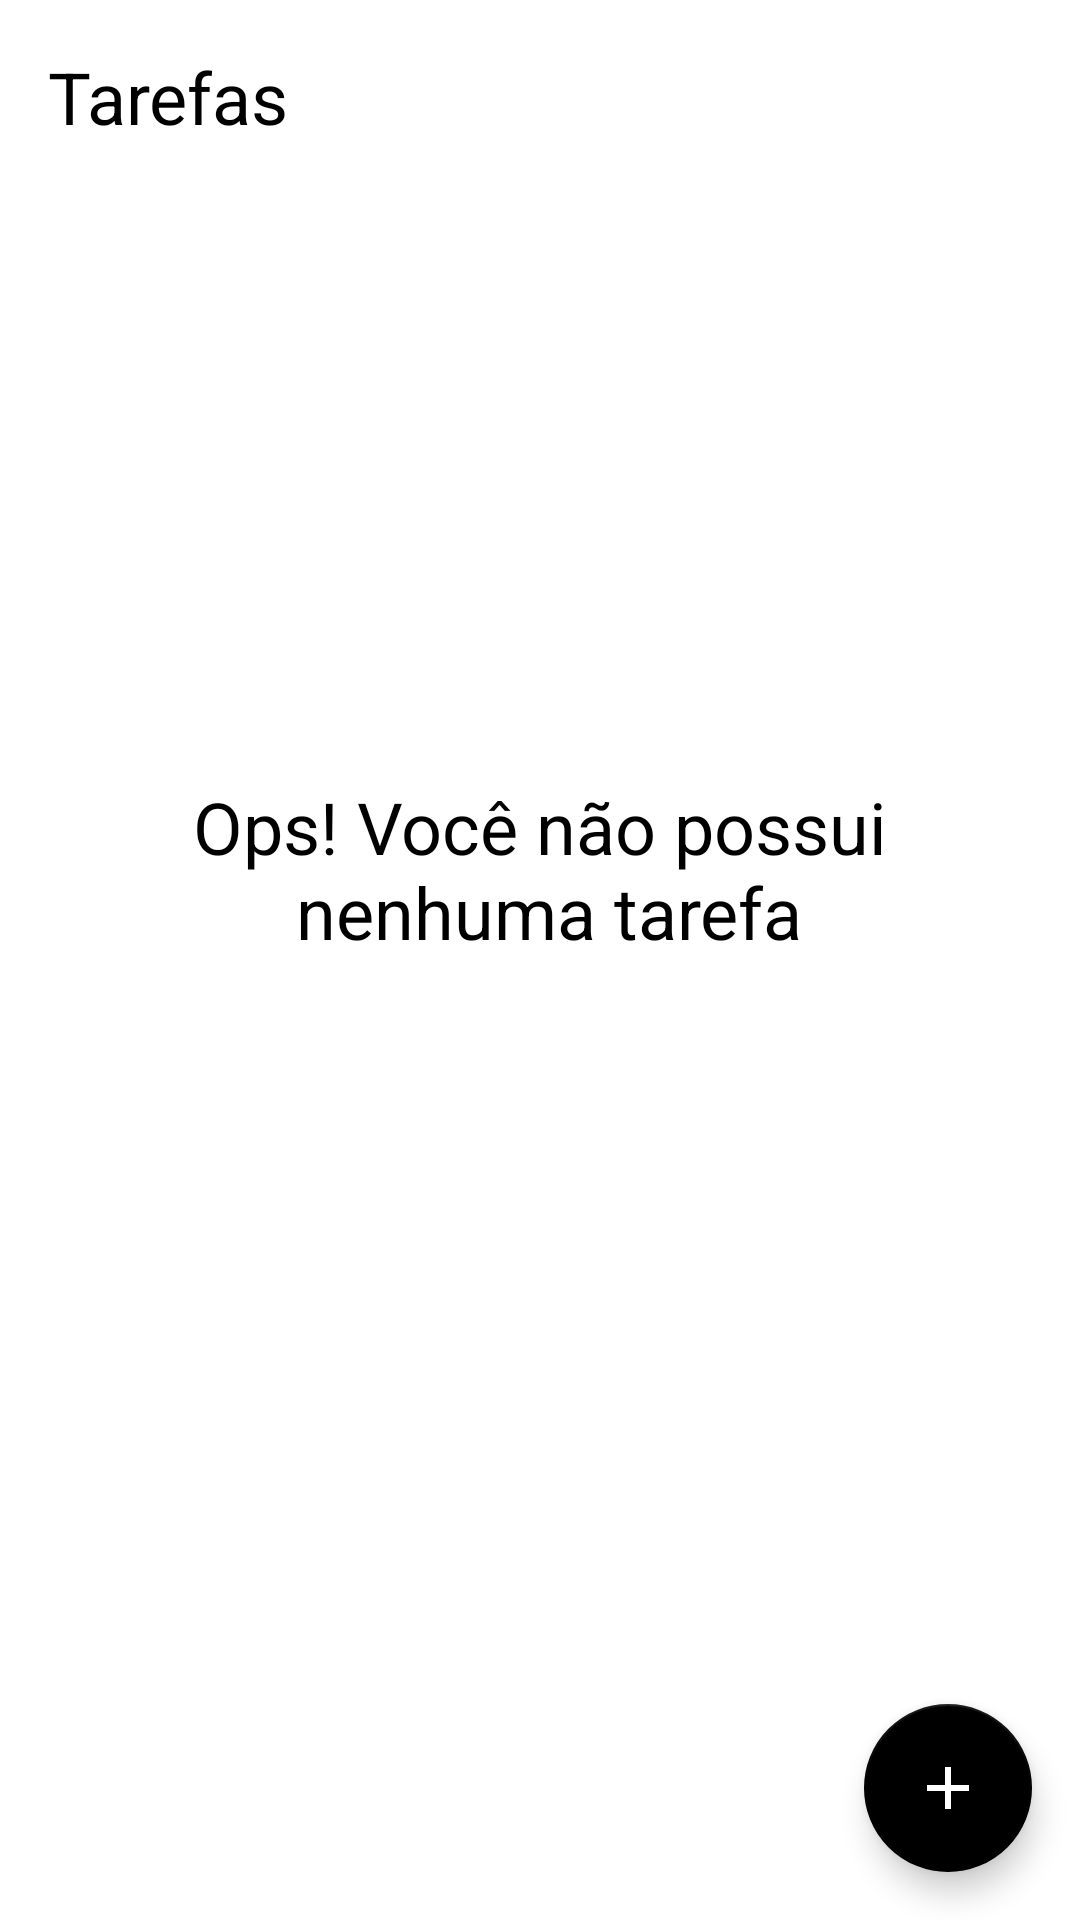

Icon click points for this 1080*1920 phone screenshot, format (x=x, y=y):
Nova Tarefa: (x=948, y=1788)
